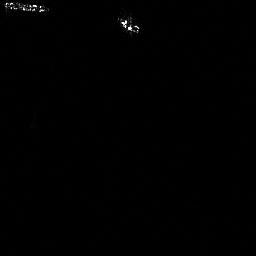ship: (1, 1, 51, 16), (112, 13, 143, 37)
